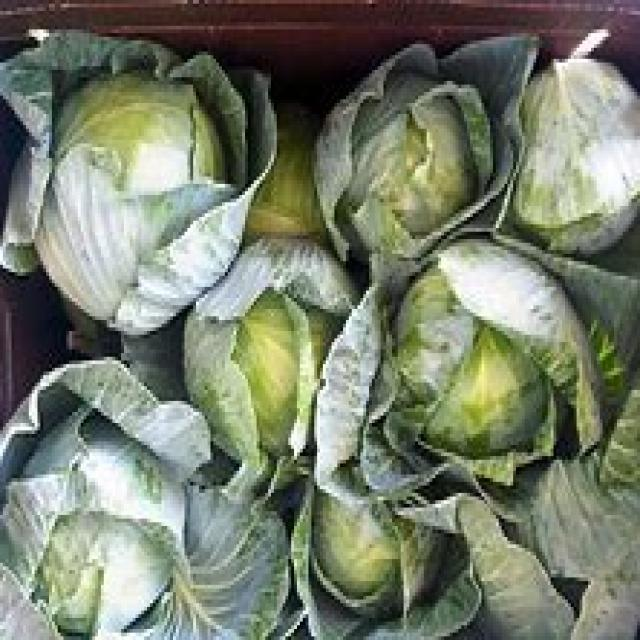cabbage: (48, 57, 245, 286), (386, 274, 586, 466), (200, 278, 354, 466)
